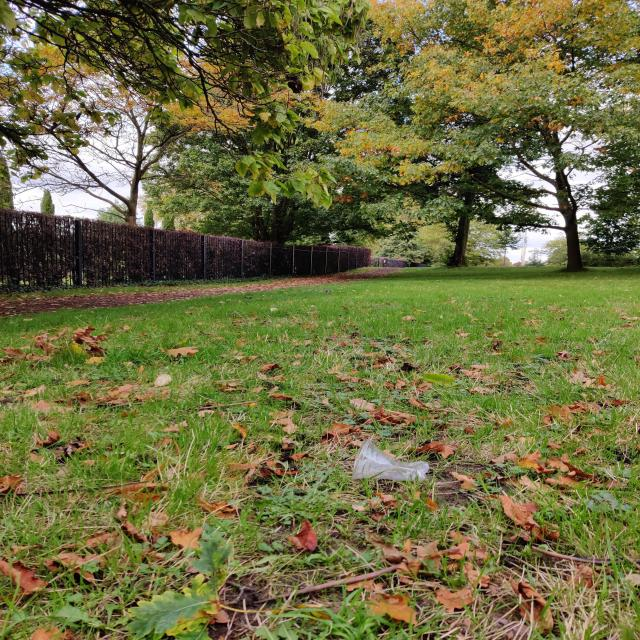litter: (351, 438, 431, 483)
